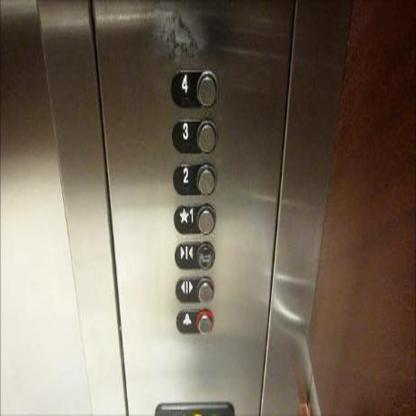2: (172, 160, 216, 196)
3: (171, 117, 217, 155)
4: (170, 67, 218, 109)
alarm: (175, 306, 213, 335)
close: (174, 240, 216, 271)
open: (175, 273, 214, 304)
s1: (173, 203, 216, 235)
